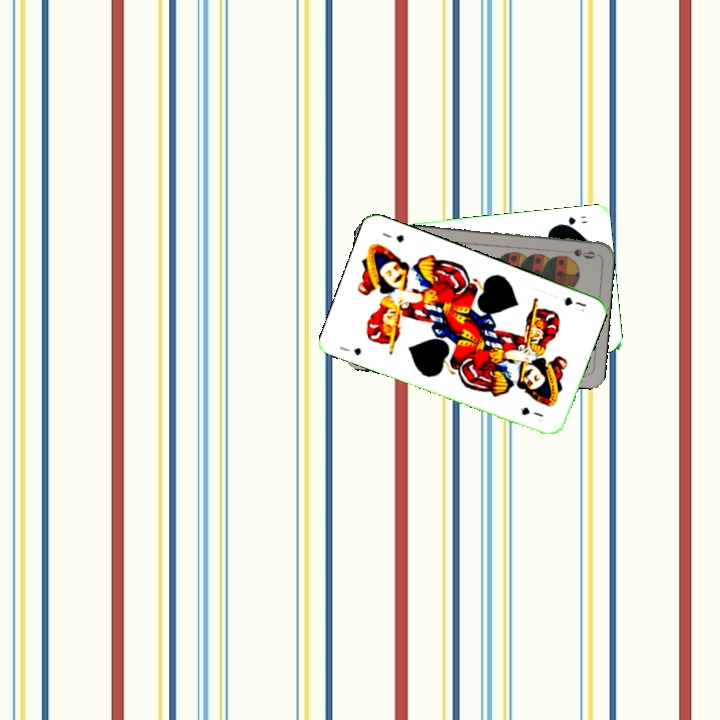GO: (554, 212, 591, 230)
GU: (559, 293, 589, 309), (335, 342, 364, 358)
S9: (569, 245, 598, 261)
